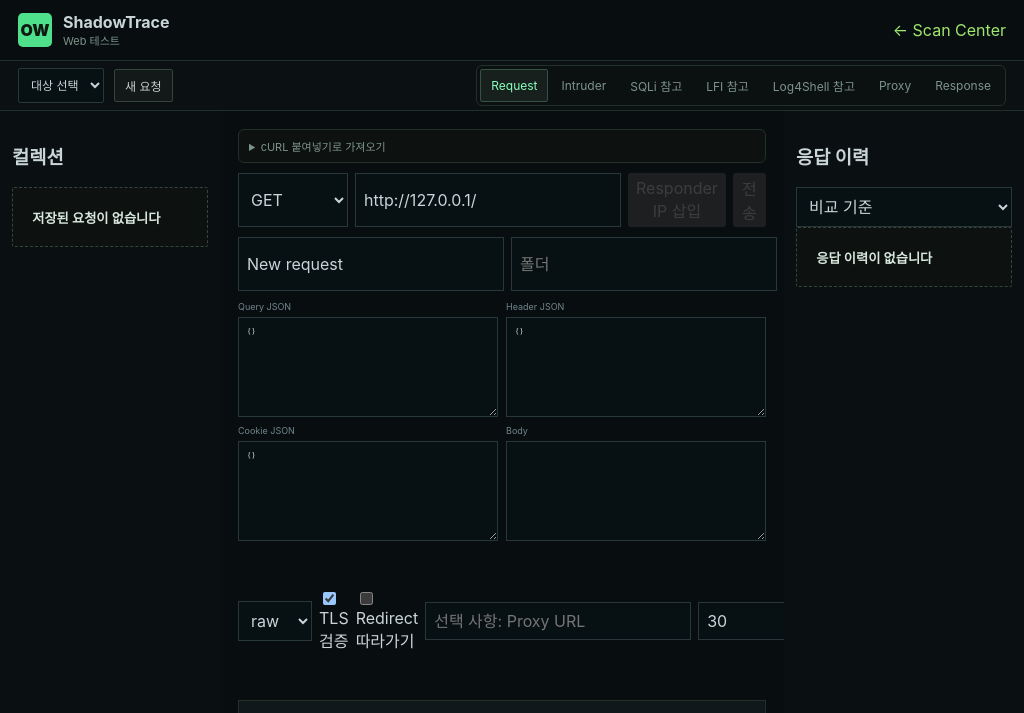
Scenario: imports a pasted curl command into the request editor
Check: the text "저장된 요청이 없습니다" is shown, box [32,210,160,226]
Click the heading "cURL 붙여넣기로 가져오기" at x=323, y=147, box [261,140,386,154]
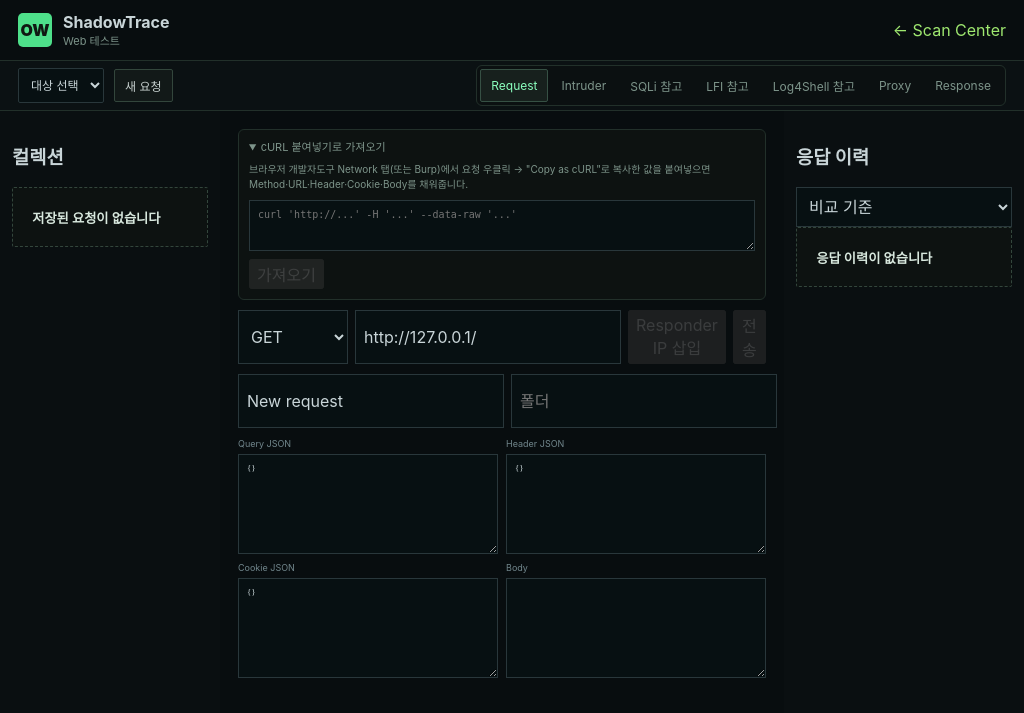
Type "curl 'http://10.10.10.10/login.php' -H 'Cookie: PHPSESSID=abc' --data-raw 'username=admin&password=x'" into the text box with placeholder "curl 'http://...' -H '...' --data-raw '...'" at x=502, y=226, box [249,200,755,251]
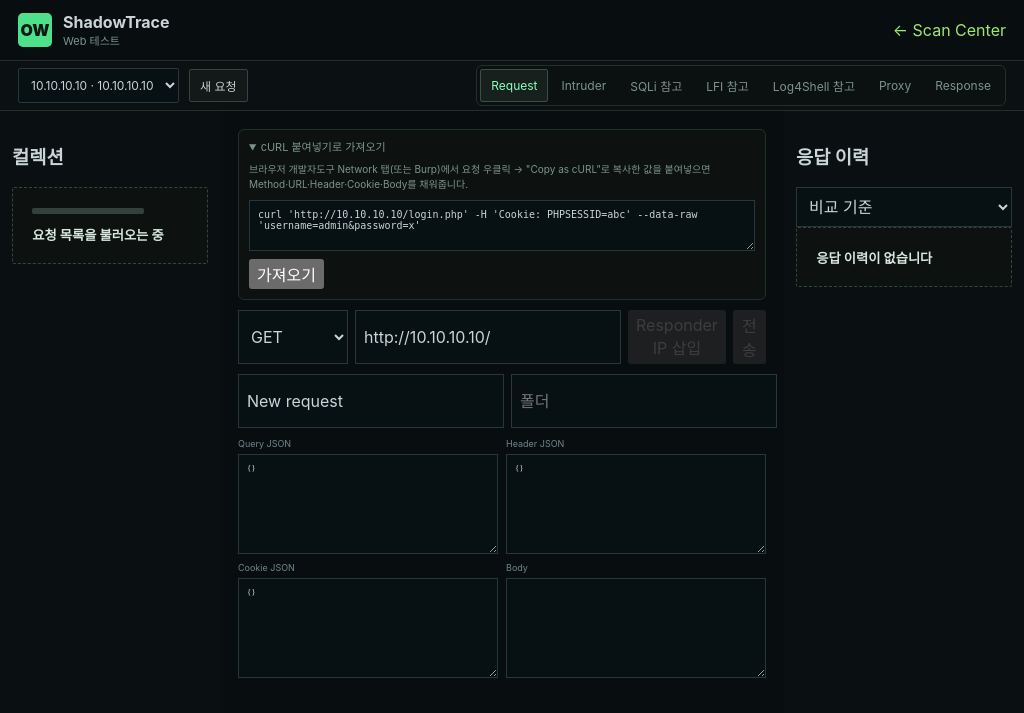
Click the button "가져오기" at x=286, y=274, box [249,259,324,289]
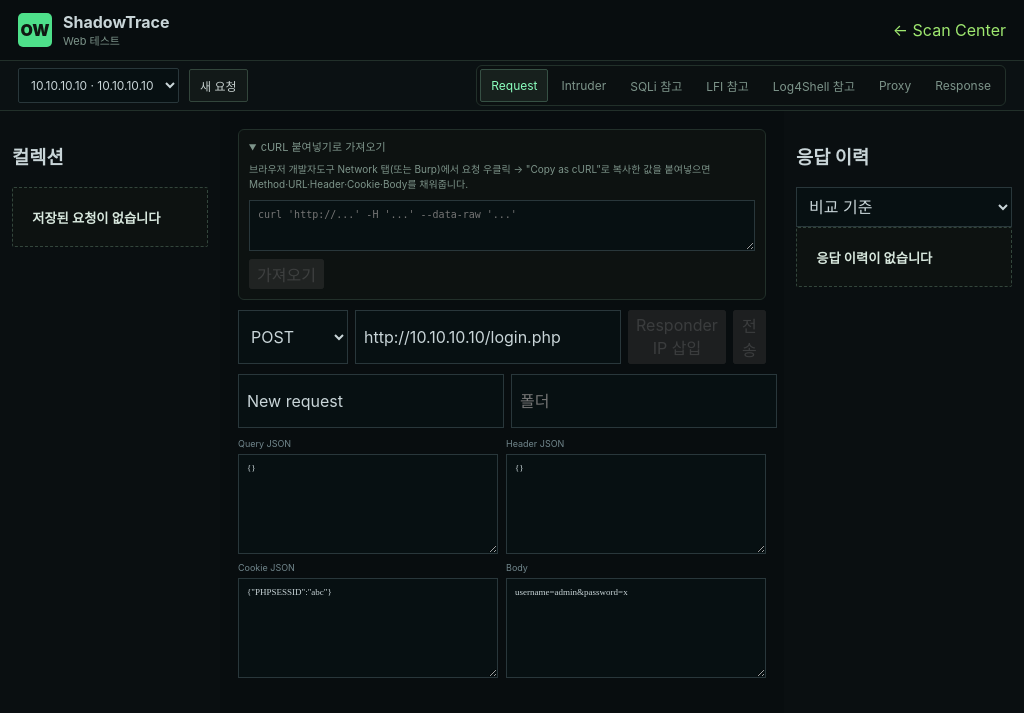
Check: the field showing "http://10.10.10.10/login.php" holds "http://10.10.10.10/login.php", box [355,310,621,364]
Check: the text box showing "username=admin&password=x" holds "username=admin&password=x", box [506,578,766,678]
Check: the text box showing "{\"PHPSESSID\":\"abc\"}" holds "{\"PHPSESSID\":\"abc\"}", box [238,578,498,678]
